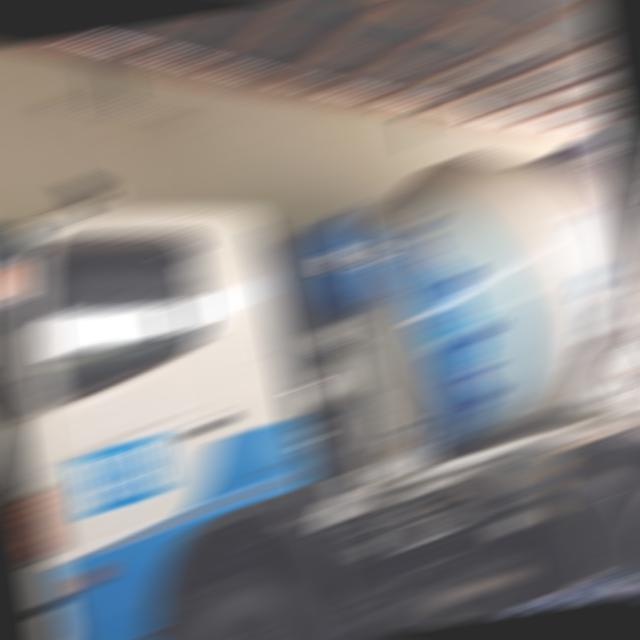cement_mixer_truck: (0, 99, 640, 637)
